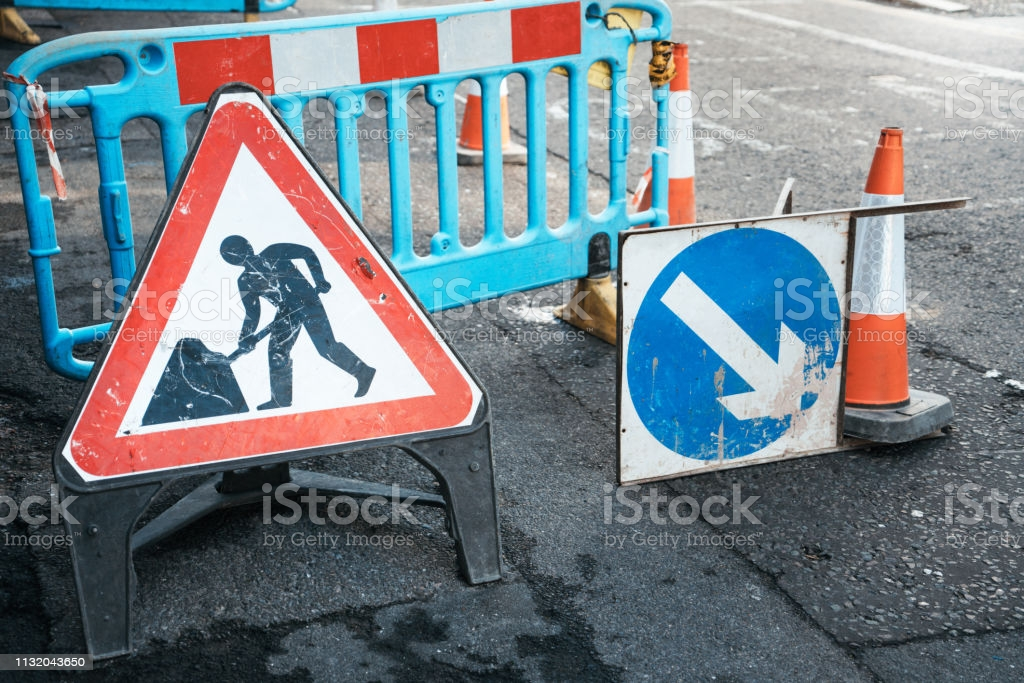caution: (55, 83, 492, 464)
